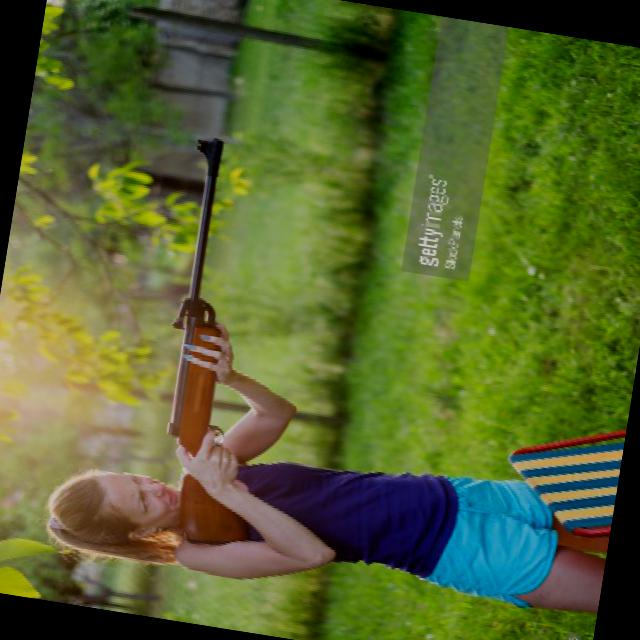long weapon: (129, 120, 314, 562)
